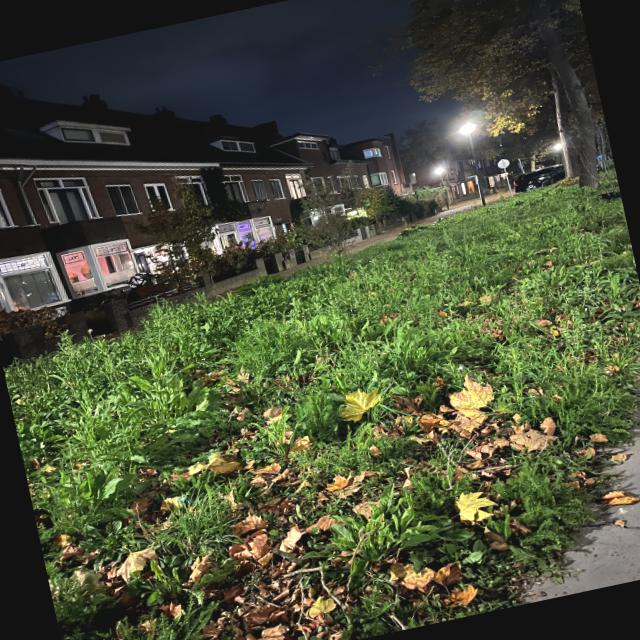leaves: (230, 513, 350, 639)
plants: (3, 183, 639, 557)
